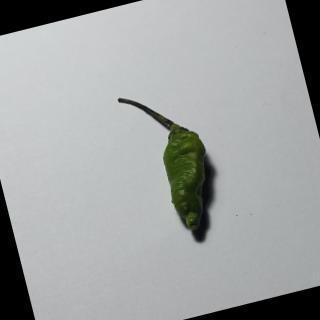Cabai Hijau: (106, 68, 241, 258)
